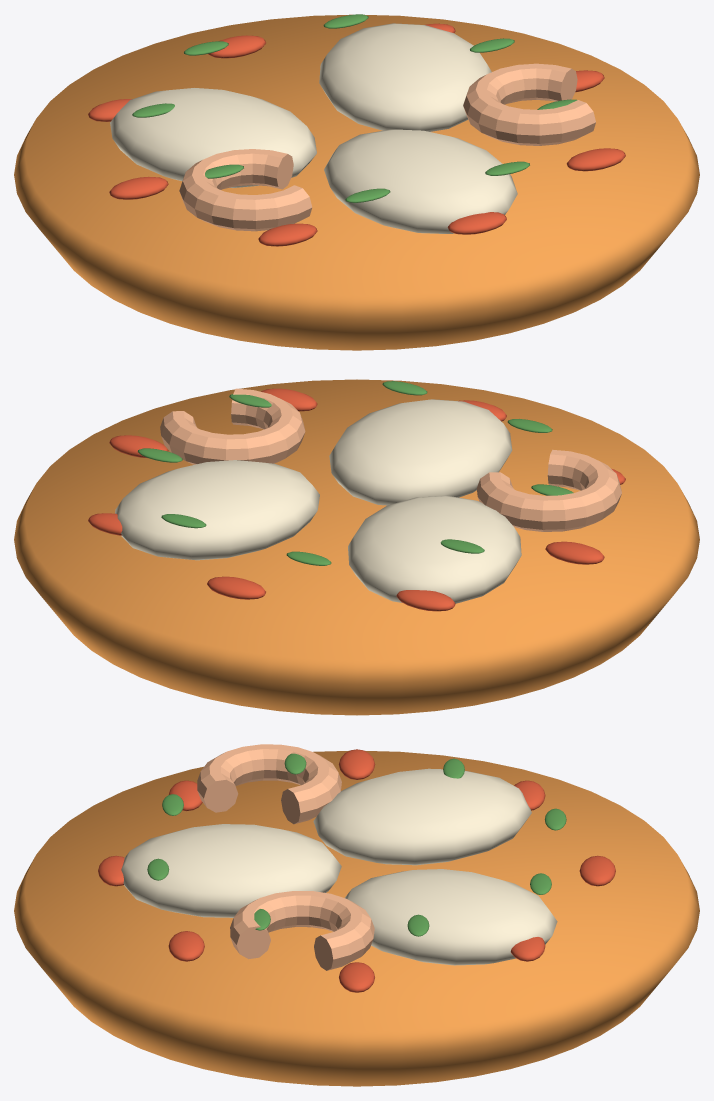
File: dish_moqueca.glb
3 renders of one model, top to bottom at view 1: azimuth 30°, elevation 25°; view 2: azimuth 150°, elevation 25°; view 3: azimuth 270°, elevation 25°, orthographic.
Visible parts, largest first — view 1: dish_moqueca; view 2: dish_moqueca; view 3: dish_moqueca.
Part boxes in pixels (bbox=[...]): dish_moqueca: bbox=[14, 14, 699, 350]; dish_moqueca: bbox=[14, 379, 699, 715]; dish_moqueca: bbox=[14, 744, 699, 1086].
Bounding box in the file's own units: 0.188 × 0.035 × 0.188.
